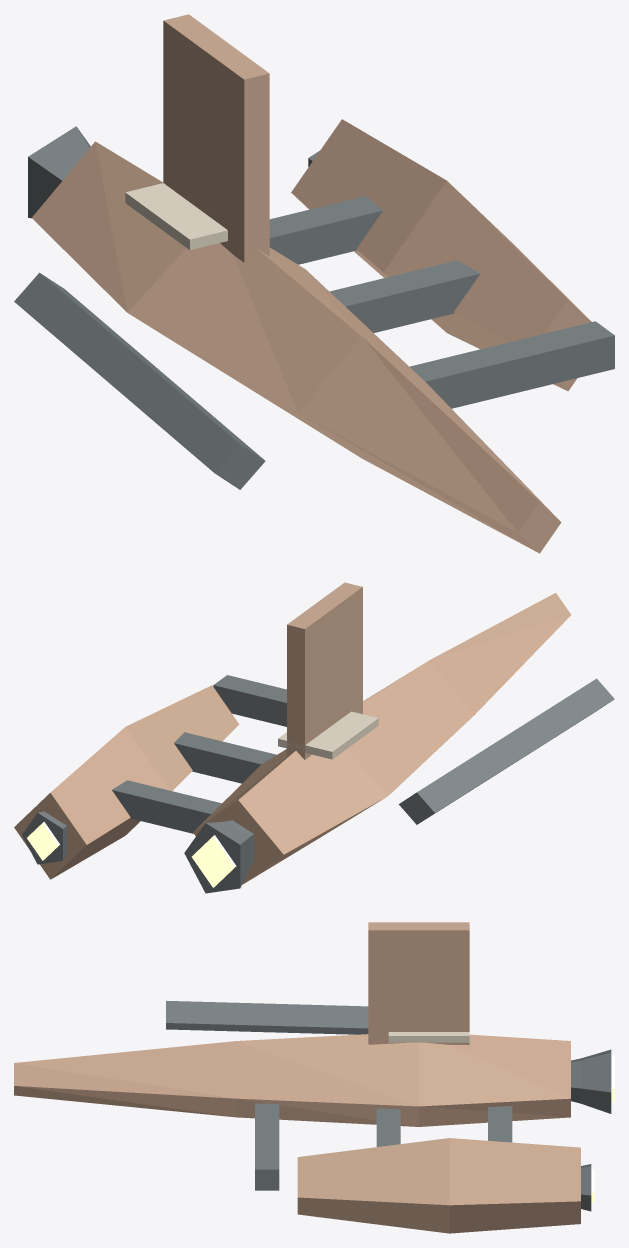
3 renders of one model, top to bottom at view 1: azimuth 30°, elevation 25°; view 2: azimuth 150°, elevation 25°; view 3: azimuth 270°, elevation 25°, orthographic. The views are drawn at different scales.
Bounding box in the file's own units: 6.21 × 4.16 × 9.88.
